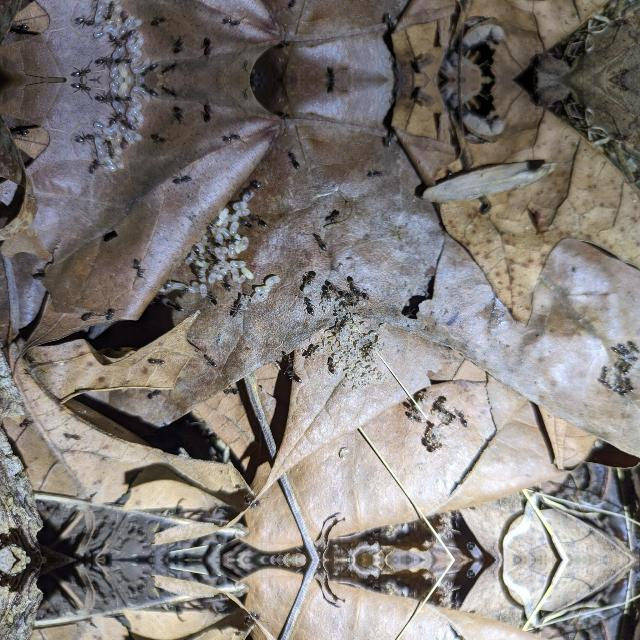Tapinoma: (128, 254, 150, 280), (321, 208, 345, 230), (418, 439, 444, 456), (310, 230, 330, 252), (172, 172, 198, 188), (200, 100, 217, 124), (298, 294, 316, 316), (298, 270, 316, 292), (343, 274, 361, 296), (200, 36, 217, 59), (300, 342, 320, 360), (284, 150, 302, 170), (282, 368, 304, 384), (317, 278, 333, 300), (164, 296, 186, 312), (227, 300, 246, 318), (170, 104, 187, 124), (170, 36, 187, 56), (60, 431, 86, 444), (74, 130, 98, 144), (322, 356, 338, 376), (139, 81, 159, 97), (202, 222, 218, 242), (359, 336, 379, 352), (188, 242, 204, 262), (420, 419, 436, 439), (139, 63, 159, 79), (68, 80, 94, 92), (68, 68, 94, 80), (74, 16, 98, 29), (142, 388, 164, 402), (80, 308, 102, 322), (203, 288, 220, 306), (7, 125, 30, 138), (218, 274, 234, 292), (220, 131, 244, 143), (220, 17, 244, 29), (200, 352, 220, 366), (160, 83, 180, 97), (148, 131, 168, 145), (119, 118, 139, 132), (103, 139, 117, 159), (404, 402, 424, 416), (160, 63, 180, 77), (148, 15, 168, 29), (119, 28, 139, 42), (103, 1, 117, 21), (7, 22, 30, 34), (252, 212, 268, 228), (87, 158, 103, 174), (456, 411, 470, 429), (220, 385, 240, 397), (94, 91, 115, 102), (239, 215, 255, 229), (322, 80, 338, 94), (102, 308, 118, 322), (414, 387, 428, 403), (322, 66, 338, 80), (94, 58, 115, 68), (146, 357, 166, 367), (364, 167, 384, 177), (282, 0, 302, 10), (618, 364, 632, 378), (443, 406, 455, 419), (618, 342, 630, 354), (630, 338, 638, 354), (406, 412, 420, 421), (608, 346, 622, 354)
